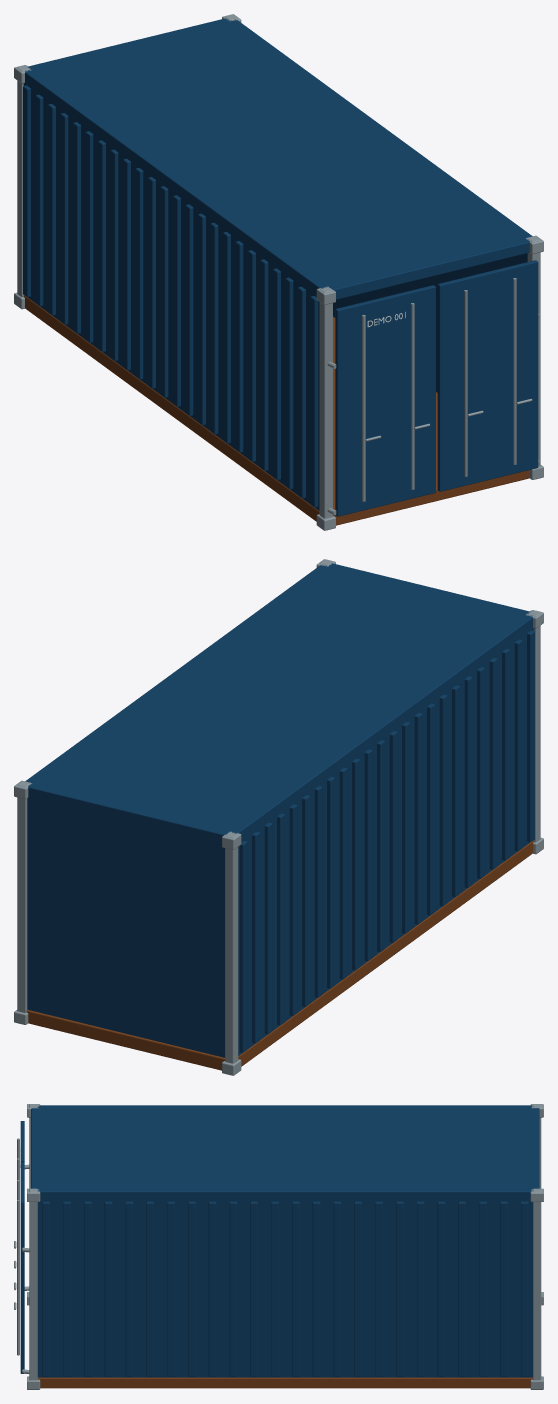
3 renders of one model, top to bottom at view 1: azimuth 30°, elevation 25°; view 2: azimuth 150°, elevation 25°; view 3: azimuth 270°, elevation 25°, orthographic. The views are drawn at different scales.
Parts seen in each view (by area): view 1: ROOF, SIDE_CorrugatedRibs, SIDE_Panel, DOOR_Panel.001, DOOR_Panel, FLOOR, CORNER_Post.001, SIDE_Panel.001, CORNER_Post.002, CORNER_Post.003, LOCK_Bar, LOCK_Bar.001 (+2 smaller); view 2: ROOF, SIDE_CorrugatedRibs, BACK, SIDE_Panel, FLOOR, CORNER_Post.002, CORNER_Post, CORNER_Post.001; view 3: SIDE_Panel.001, ROOF, SIDE_CorrugatedRibs.001, FLOOR, CORNER_Post.003, CORNER_Post, DOOR_Panel.001, LOCK_Bar.003.
Part boxes in pixels (bbox=[...]): ROOF: bbox=[25, 18, 532, 299]; SIDE_CorrugatedRibs: bbox=[23, 85, 318, 507]; SIDE_Panel: bbox=[23, 82, 319, 510]; DOOR_Panel.001: bbox=[437, 260, 538, 491]; DOOR_Panel: bbox=[335, 285, 435, 516]; FLOOR: bbox=[23, 295, 529, 525]; CORNER_Post.001: bbox=[319, 287, 332, 518]; SIDE_Panel.001: bbox=[333, 253, 527, 392]; CORNER_Post.002: bbox=[17, 66, 29, 297]; CORNER_Post.003: bbox=[527, 236, 540, 466]; LOCK_Bar: bbox=[362, 315, 365, 501]; LOCK_Bar.001: bbox=[411, 303, 414, 489]; ROOF: bbox=[25, 563, 532, 844]; SIDE_CorrugatedRibs: bbox=[239, 630, 534, 1052]; BACK: bbox=[27, 797, 224, 1057]; SIDE_Panel: bbox=[238, 626, 534, 1055]; FLOOR: bbox=[26, 840, 534, 1070]; CORNER_Post.002: bbox=[225, 832, 238, 1063]; CORNER_Post: bbox=[17, 781, 29, 1012]; CORNER_Post.001: bbox=[528, 611, 540, 842]; SIDE_Panel.001: bbox=[37, 1199, 532, 1377]; ROOF: bbox=[31, 1105, 539, 1200]; SIDE_CorrugatedRibs.001: bbox=[42, 1201, 528, 1376]; FLOOR: bbox=[37, 1377, 532, 1388]; CORNER_Post.003: bbox=[29, 1188, 37, 1380]; CORNER_Post: bbox=[533, 1188, 541, 1380]; DOOR_Panel.001: bbox=[20, 1162, 24, 1373]; LOCK_Bar.003: bbox=[17, 1200, 19, 1355].
Size of the model in its own units: 2.53 by 2.59 by 6.31.
